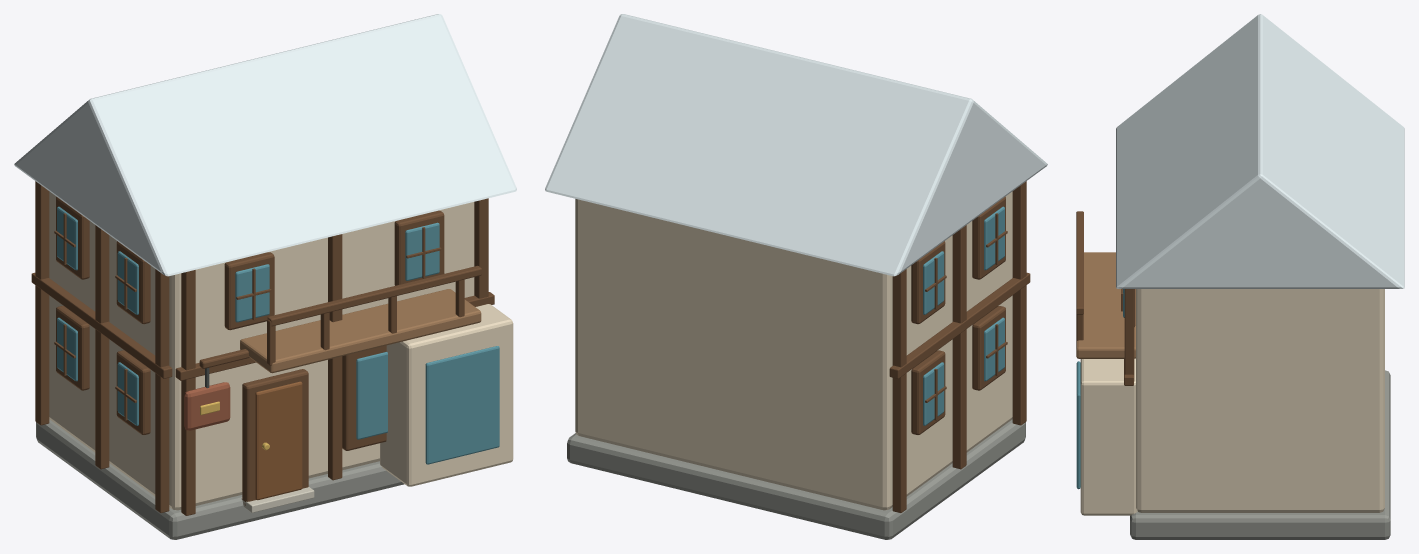
Rendered from snowy-merchant-1.glb.
3 renders of one model, left to right at view 1: azimuth 30°, elevation 25°; view 2: azimuth 150°, elevation 25°; view 3: azimuth 270°, elevation 25°, orthographic. The views are drawn at different scales.
Visible parts, largest first — view 1: Snow, Warm lime, Dark beams, Blue glass, Foundation stone, Aged oak, Door oak, Painted sign, Cut limestone; view 2: Warm lime, Snow, Dark beams, Foundation stone, Blue glass; view 3: Warm lime, Snow, Foundation stone, Aged oak, Dark beams, Blue glass.
Part boxes in pixels (bbox=[...]): Snow: bbox=[14, 14, 516, 276]; Warm lime: bbox=[49, 191, 513, 510]; Dark beams: bbox=[31, 181, 494, 515]; Blue glass: bbox=[57, 206, 499, 464]; Foundation stone: bbox=[36, 419, 404, 539]; Aged oak: bbox=[240, 289, 481, 373]; Door oak: bbox=[255, 381, 302, 500]; Painted sign: bbox=[184, 382, 230, 430]; Cut limestone: bbox=[241, 487, 314, 512]; Warm lime: bbox=[575, 191, 1012, 510]; Snow: bbox=[545, 14, 1047, 276]; Dark beams: bbox=[889, 181, 1030, 512]; Foundation stone: bbox=[567, 419, 1025, 539]; Blue glass: bbox=[923, 206, 1004, 425]; Warm lime: bbox=[1080, 289, 1384, 515]; Snow: bbox=[1116, 14, 1404, 288]; Foundation stone: bbox=[1130, 370, 1390, 539]; Aged oak: bbox=[1076, 252, 1135, 358]; Dark beams: bbox=[1076, 211, 1135, 385]; Blue glass: bbox=[1076, 289, 1124, 489].
Bounding box in the file's own units: 3.94 × 4.22 × 3.36.
